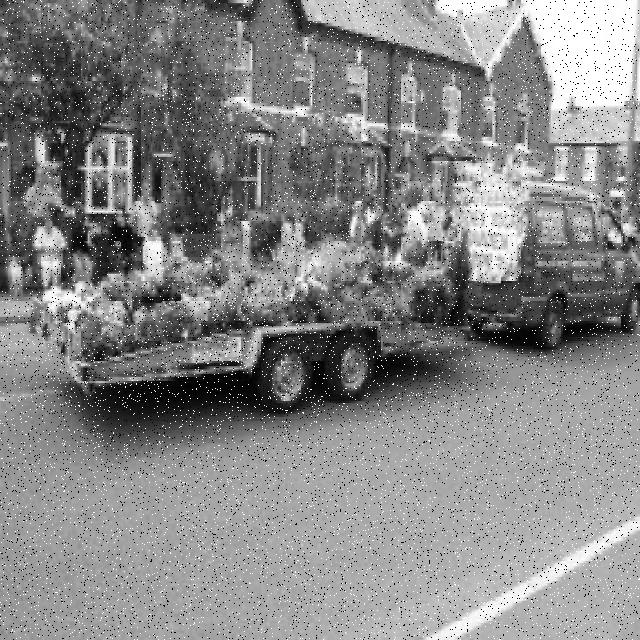Trailer: (31, 296, 478, 412)
